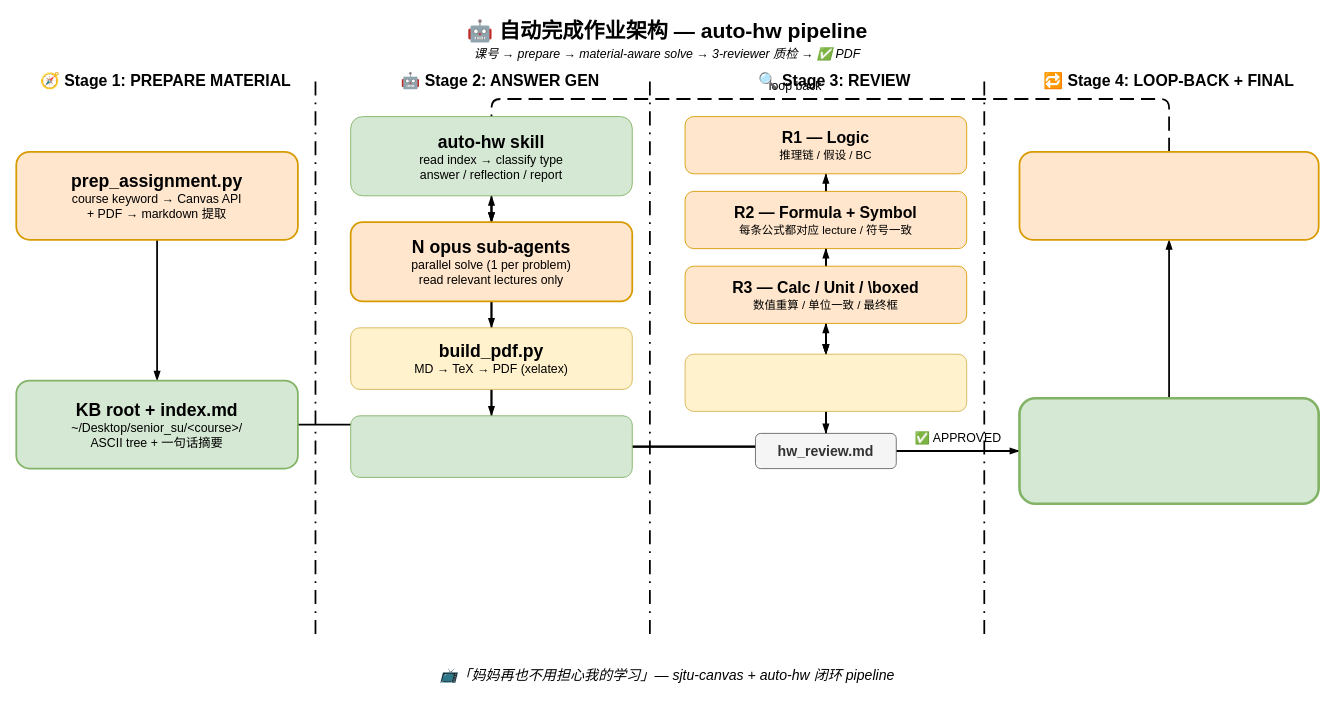
Image size: 1335x703. Some labels were removed from this diagram. Each missing label, with the centre of its shape:
Aggregator double-track verdict: point 825,382
Fix sub-agents 一题一 agent,按 issue list 修正 保留原数值,只补缺失: point 1168,195
hw_answer.pdf + .md + .tex 同目录共存: point 491,446
✅ APPROVED hw_answer.pdf ready to submit: point 1169,450
